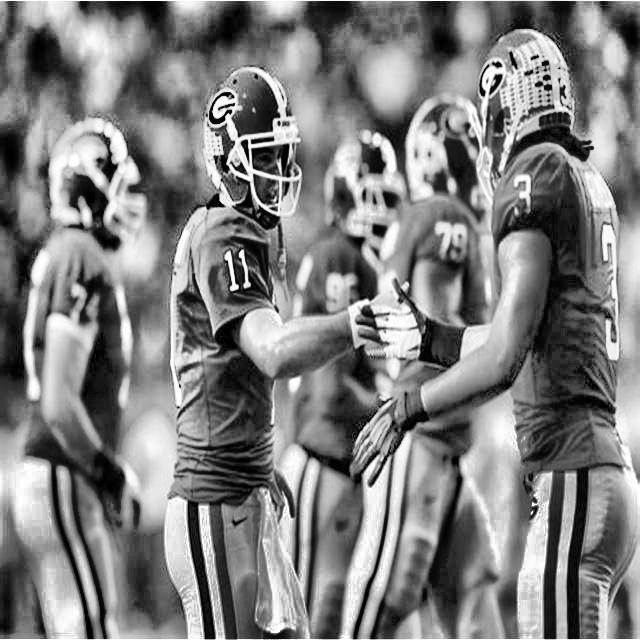Helmet: (471, 25, 578, 206), (203, 60, 306, 228)
